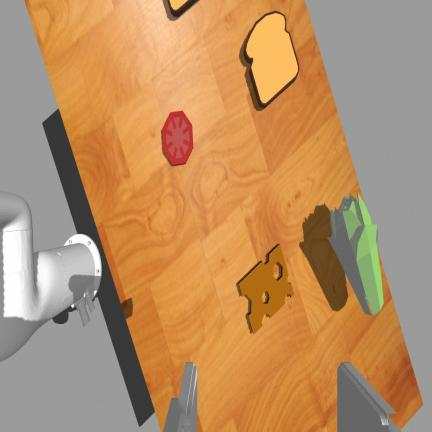cheese: (239, 244, 293, 333)
lettuce: (329, 195, 383, 314)
sliced_bread: (244, 12, 298, 106), (168, 0, 196, 16)
sliced_tomato: (163, 111, 193, 164)
